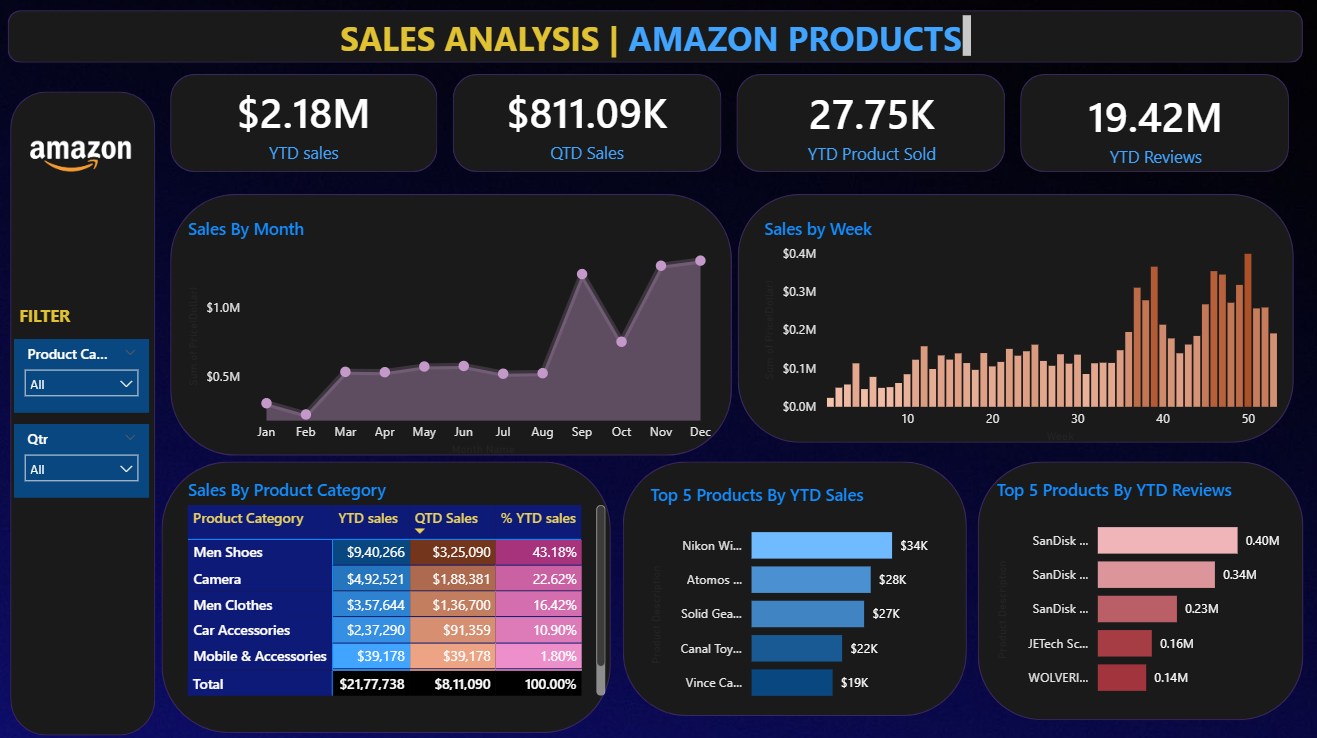

The dashboard page shown, as its layout file describes it:
{"tool":"powerbi","page":{"name":"Page 1","canvas":[1280,720],"ordinal":0},"visuals":[{"type":"shape","box":[13.7,11,1250,50.8],"z":0},{"type":"textbox","box":[329.3,11,618.9,50.8],"z":1000},{"type":"shape","box":[15.1,89.2,140,621.6],"z":2000},{"type":"shape","box":[170.2,72.7,258,94.7],"z":3000},{"type":"card","fields":{"Values":["Amazon_Data.YTD sales"]},"box":[170.2,72.7,258,94.7],"z":4000},{"type":"shape","box":[443.2,72.7,259.3,94.7],"z":5000},{"type":"card","fields":{"Values":["Amazon_Data.QTD Sales"]},"box":[443.2,72.7,259.3,94.7],"z":6000},{"type":"shape","box":[990.7,72.7,259.3,94.7],"z":7000},{"type":"shape","box":[716.8,72.7,259.3,94.7],"z":8000},{"type":"card","fields":{"Values":["Amazon_Data.YTD Product Sold"]},"box":[717.7,74.1,259.3,94.7],"z":9000},{"type":"card","fields":{"Values":["Amazon_Data.YTD Reviews"]},"box":[992.1,75.5,259.3,94.7],"z":10000},{"type":"shape","box":[170.2,188,542,252.5],"z":10250},{"type":"areaChart","title":"Sales By Month","fields":{"Category":["Date Table.Month Name"],"Y":["Sum(Amazon_Data.Price(Dollar))"]},"box":[182.5,209.9,520.1,236],"z":10500},{"type":"shape","box":[717.7,188,536.5,240.1],"z":11001},{"type":"columnChart","title":"Sales by Week","fields":{"Y":["Sum(Amazon_Data.Price(Dollar))"],"Category":["Date Table.Week"]},"box":[738.3,209.9,525.6,223.7],"z":11002},{"type":"shape","box":[161.9,446,433.6,262.1],"z":11003},{"type":"pivotTable","title":"Sales By Product Category","fields":{"Rows":["Amazon_Data.Product Category"],"Values":["Amazon_Data.YTD sales1","Amazon_Data.QTD Sales","Amazon_Data.YTD sales"]},"box":[182.5,462.4,413,215.4],"z":11004},{"type":"shape","box":[606.5,446,332.1,245.6],"z":11005},{"type":"shape","box":[949.6,446,314.2,249.7],"z":11006},{"type":"clusteredBarChart","title":"Top 5 Products By YTD Sales","fields":{"Category":["Amazon_Data.Product Description"],"Y":["Amazon_Data.YTD sales"]},"box":[628.5,466.6,288.2,225],"z":11007},{"type":"clusteredBarChart","title":"Top 5 Products By YTD Reviews","fields":{"Category":["Amazon_Data.Product Description"],"Y":["Amazon_Data.YTD Reviews"]},"box":[963.3,462.4,288.2,225],"z":11008},{"type":"slicer","fields":{"Values":["Amazon_Data.Product Category"]},"box":[19.2,328,130.4,71.4],"z":11009},{"type":"slicer","fields":{"Values":["Date Table.Qtr"]},"box":[19.2,410.3,130.4,71.4],"z":11010},{"type":"image","box":[30.2,120.8,108.4,67.2],"z":11011},{"type":"textbox","box":[339.3,21,618.9,50.8],"z":11012},{"type":"textbox","box":[19.2,289.5,119.4,32.9],"z":11013}]}

Visuals, with their boxes in screenshot pixels (x1, y1, x2, y2), scaled from the page's 1280x720 canvas onto the 1317x738 screenshot:
shape: <bbox>14, 11, 1300, 63</bbox>
textbox: <bbox>339, 11, 976, 63</bbox>
shape: <bbox>16, 91, 160, 729</bbox>
shape: <bbox>175, 75, 441, 172</bbox>
card - Amazon_Data.YTD sales: <bbox>175, 75, 441, 172</bbox>
shape: <bbox>456, 75, 723, 172</bbox>
card - Amazon_Data.QTD Sales: <bbox>456, 75, 723, 172</bbox>
shape: <bbox>1019, 75, 1286, 172</bbox>
shape: <bbox>738, 75, 1004, 172</bbox>
card - Amazon_Data.YTD Product Sold: <bbox>738, 76, 1005, 173</bbox>
card - Amazon_Data.YTD Reviews: <bbox>1021, 77, 1288, 174</bbox>
shape: <bbox>175, 193, 733, 452</bbox>
"Sales By Month" areaChart: <bbox>188, 215, 723, 457</bbox>
shape: <bbox>738, 193, 1290, 439</bbox>
"Sales by Week" columnChart: <bbox>760, 215, 1300, 444</bbox>
shape: <bbox>167, 457, 613, 726</bbox>
"Sales By Product Category" pivotTable: <bbox>188, 474, 613, 695</bbox>
shape: <bbox>624, 457, 966, 709</bbox>
shape: <bbox>977, 457, 1300, 713</bbox>
"Top 5 Products By YTD Sales" clusteredBarChart: <bbox>647, 478, 943, 709</bbox>
"Top 5 Products By YTD Reviews" clusteredBarChart: <bbox>991, 474, 1288, 705</bbox>
slicer - Amazon_Data.Product Category: <bbox>20, 336, 154, 409</bbox>
slicer - Date Table.Qtr: <bbox>20, 421, 154, 494</bbox>
image: <bbox>31, 124, 143, 193</bbox>
textbox: <bbox>349, 22, 986, 74</bbox>
textbox: <bbox>20, 297, 143, 330</bbox>
